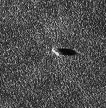mine: (51, 47, 79, 57)
